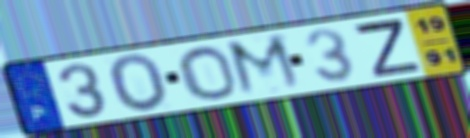3: (304, 27, 357, 86), (57, 61, 109, 120)
M: (222, 31, 308, 99)
O: (106, 52, 172, 116), (174, 44, 241, 101)
Z: (349, 16, 425, 79)
